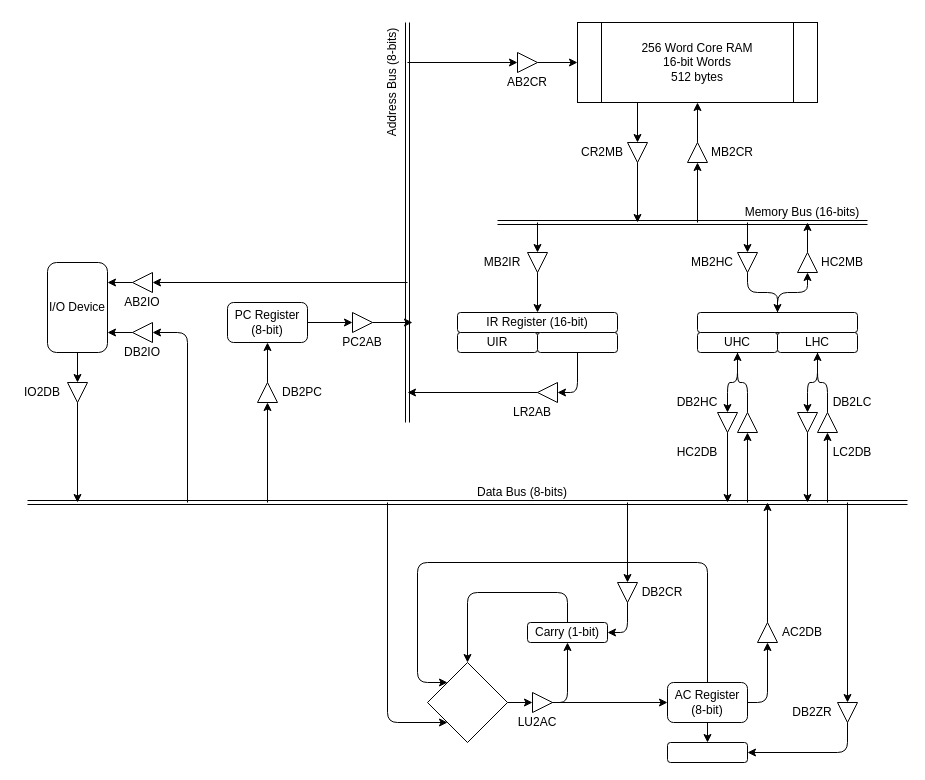
Image size: 925x780. Some labels were removed from this diagram. Each missing label, with the centre of its shape:
"ALU" goes at (x=467, y=702).
"HC Register (16-bit)" goes at (x=777, y=322).
"LIR" goes at (x=577, y=342).
"Zero (1-bit)" goes at (x=707, y=752).
